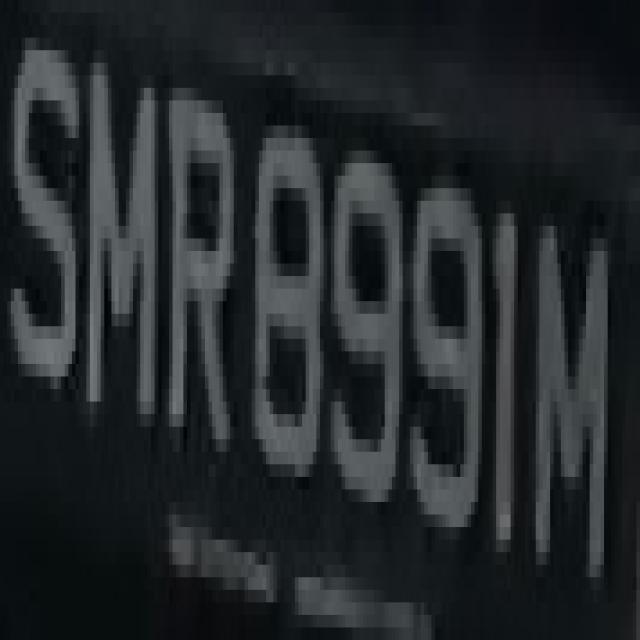1: (478, 176, 525, 602)
8: (248, 113, 331, 540)
9: (324, 113, 414, 540), (406, 176, 482, 590)
M: (528, 163, 618, 602), (83, 50, 165, 452)
R: (165, 51, 238, 490)
S: (4, 13, 86, 414)
